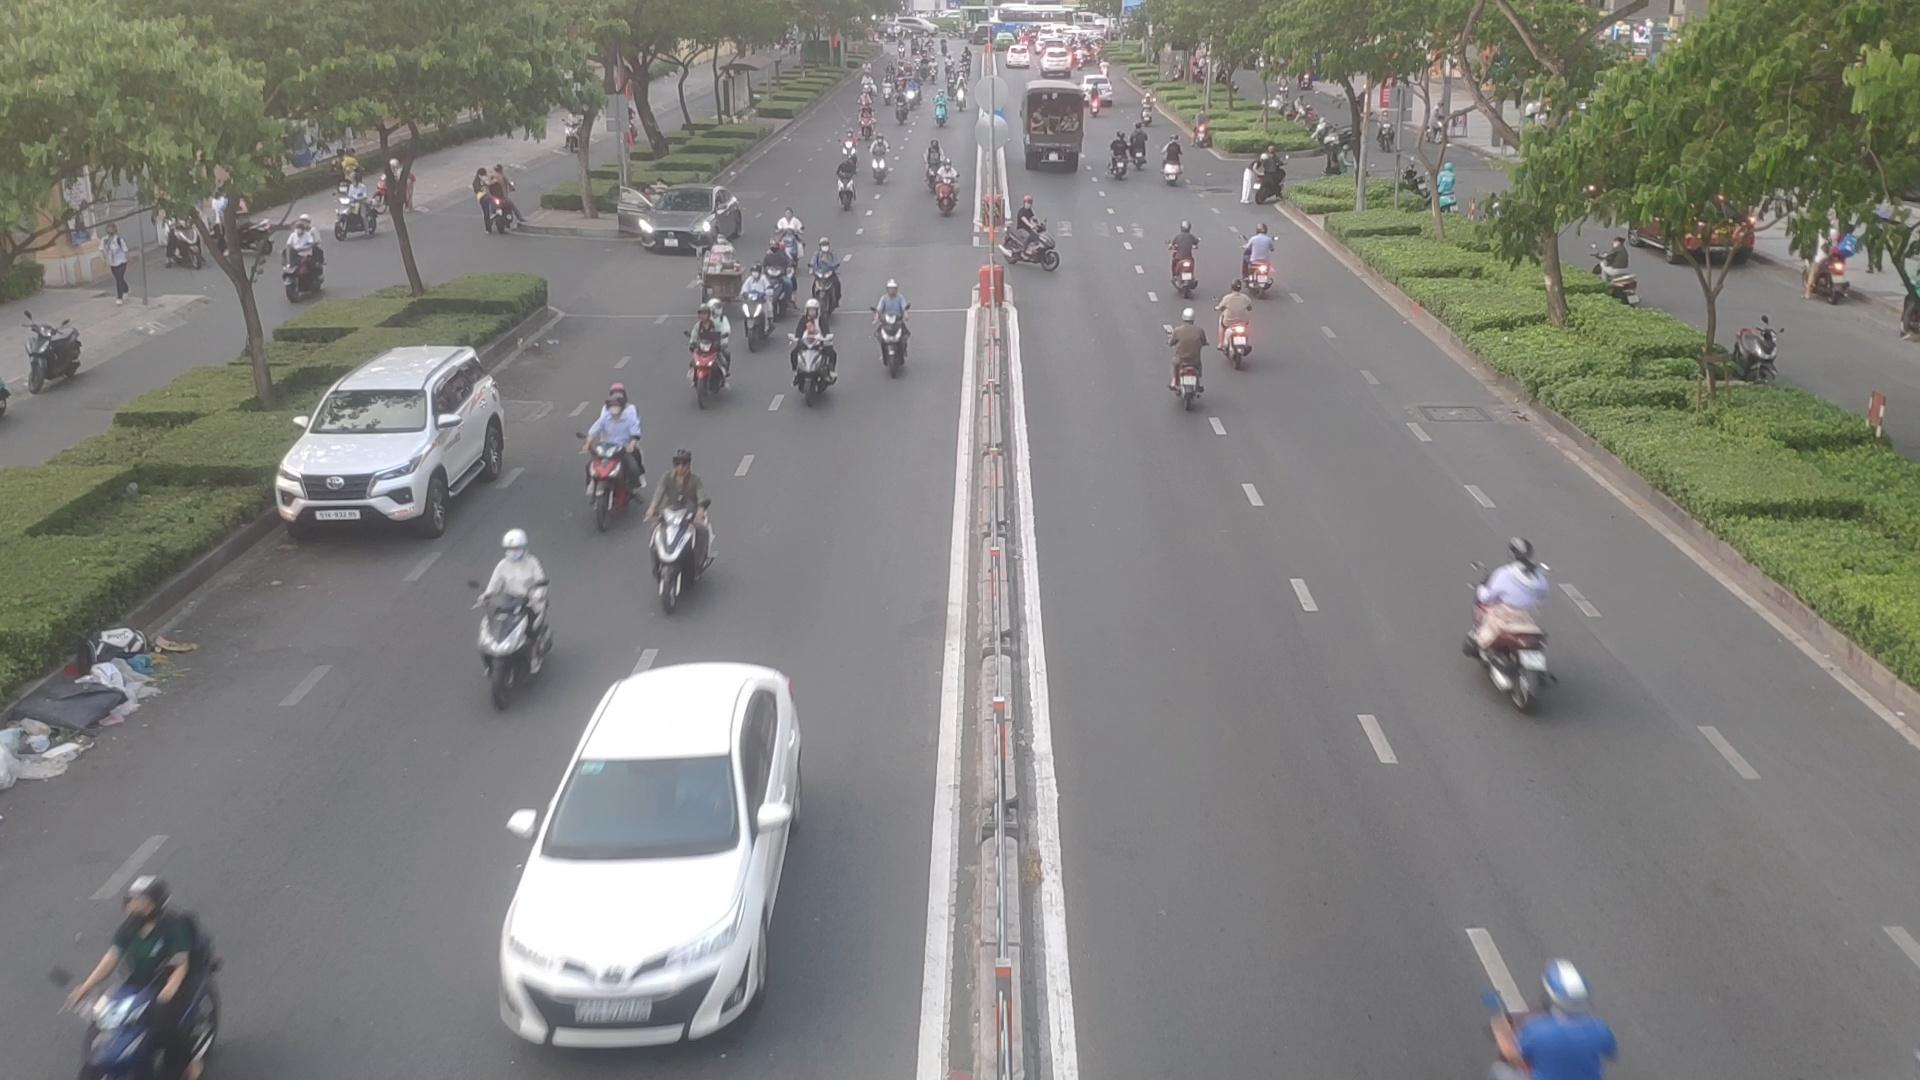car: (495, 665, 804, 1048), (273, 345, 512, 535), (621, 189, 738, 258)
motorbike: (47, 872, 233, 1080), (1466, 535, 1555, 715), (471, 526, 556, 691), (650, 440, 720, 601), (576, 380, 649, 506), (1160, 299, 1215, 406), (993, 193, 1064, 273), (691, 297, 733, 406), (864, 284, 913, 376), (1211, 280, 1257, 369), (1240, 214, 1280, 309), (736, 270, 775, 351), (789, 343, 840, 404), (1170, 218, 1199, 297), (934, 150, 963, 222), (833, 157, 858, 216), (1160, 135, 1187, 189), (1110, 123, 1137, 175), (870, 135, 893, 181)
